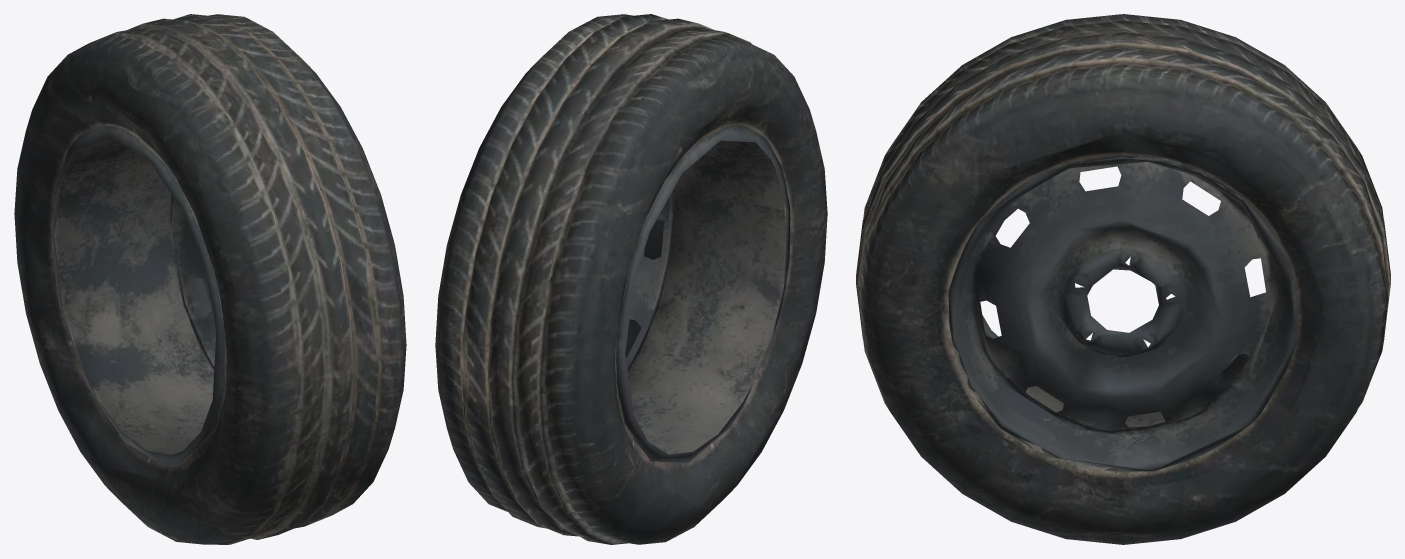
Rendered from tire.glb.
3 renders of one model, left to right at view 1: azimuth 30°, elevation 25°; view 2: azimuth 150°, elevation 25°; view 3: azimuth 270°, elevation 25°, orthographic.
Visible parts, largest first — view 1: tire; view 2: tire; view 3: tire.
Part boxes in pixels (left/top/right/bottom): tire: left=14, top=14, right=406, bottom=544; tire: left=435, top=14, right=827, bottom=544; tire: left=856, top=14, right=1390, bottom=544.
Bounding box in the file's own units: 0.2519 × 0.6797 × 0.6797.
1 material, 1 textured.
